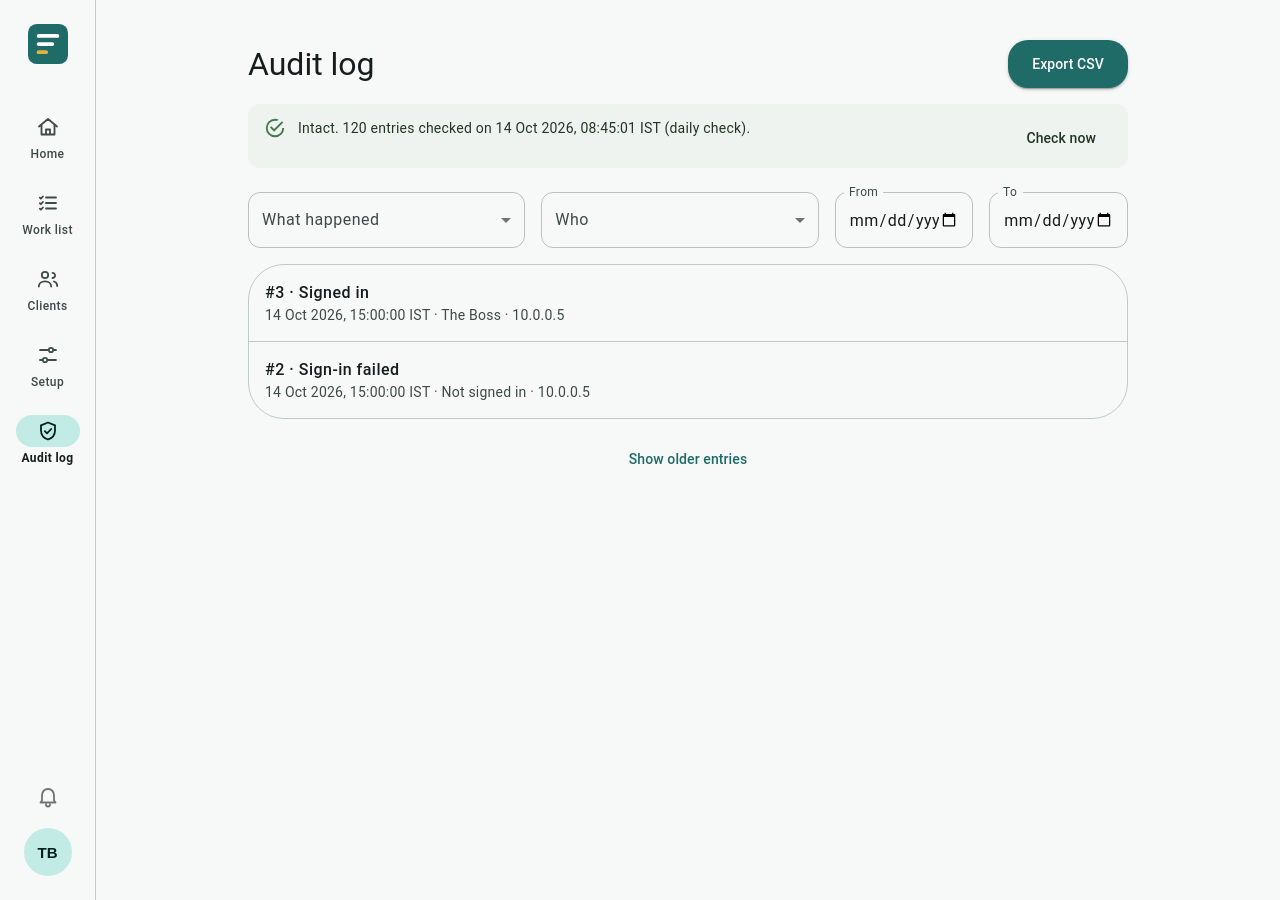
Test: Audit log screen › says why an export was refused
Expected: the text "#3 · Signed in" is shown, [265, 283, 369, 302]
Step 1. Click the button "Export CSV" → (1068, 64), box [1008, 40, 1128, 88]
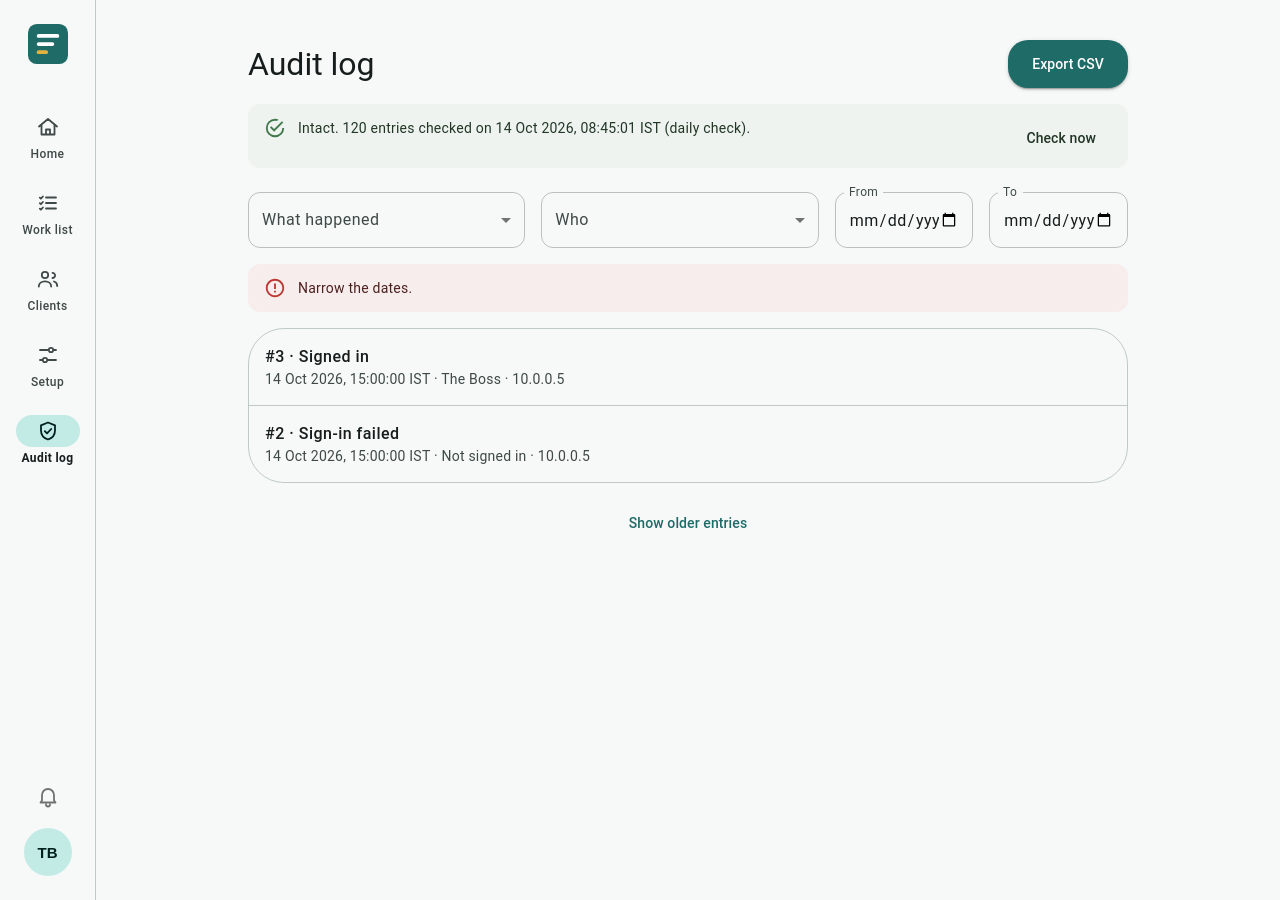
Expected: the text "Narrow the dates." is shown, [298, 280, 412, 296]
